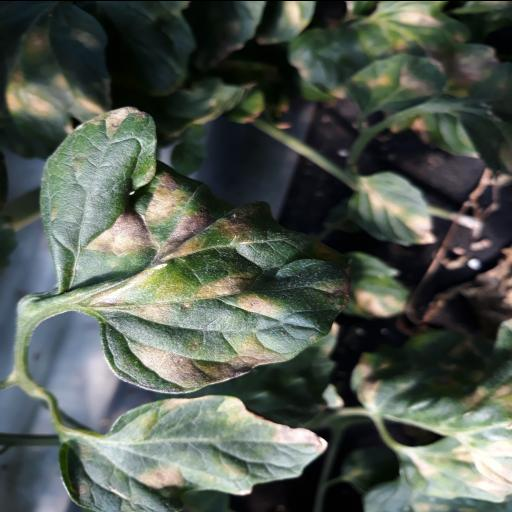Leaf Mold: (38, 106, 350, 394), (58, 394, 328, 512)
